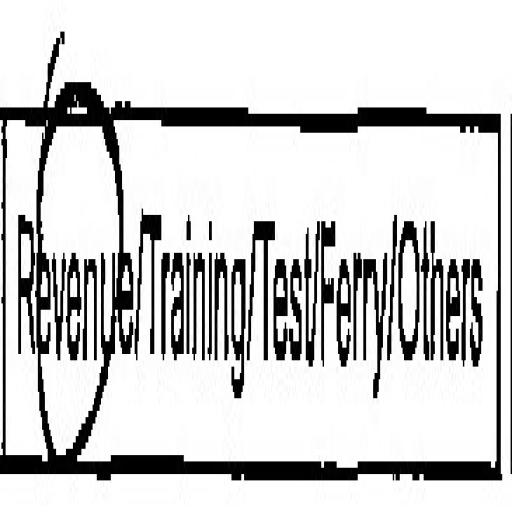check: (0, 5, 137, 512)
